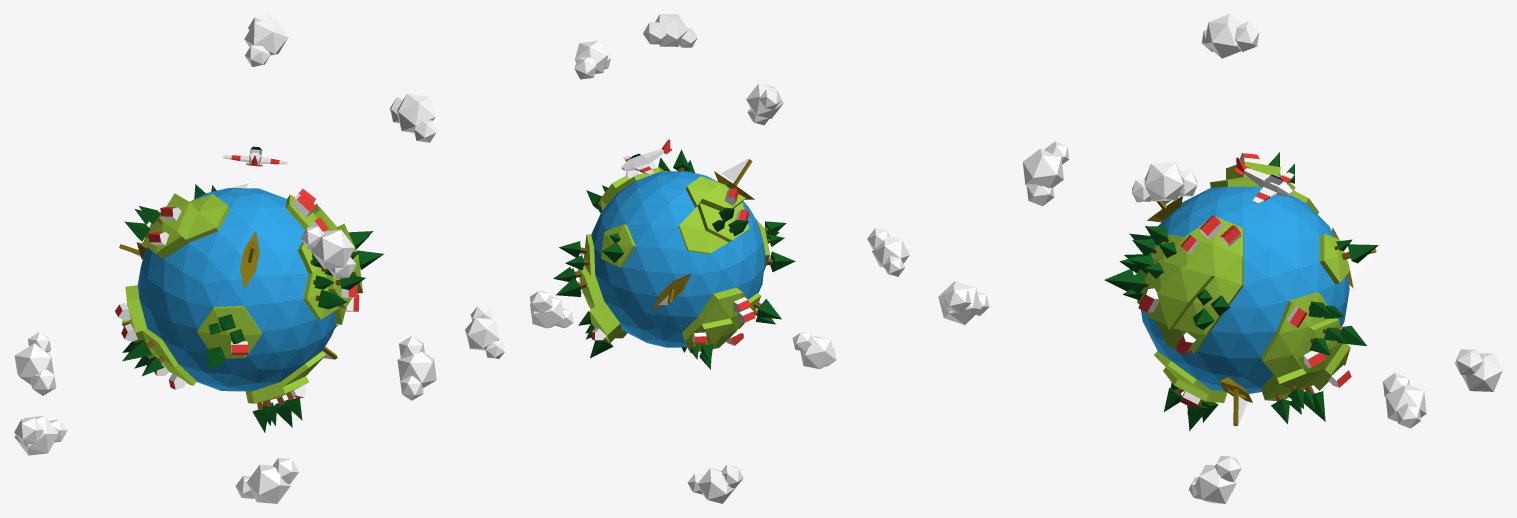
File: planet_eindversie.glb
3 renders of one model, left to right at view 1: azimuth 30°, elevation 25°; view 2: azimuth 150°, elevation 25°; view 3: azimuth 270°, elevation 25°, orthographic. The views are drawn at different scales.
Parts seen in each view (by area): view 1: earth, clouds, trees, houses, boat, airplane; view 2: earth, clouds, trees, houses, airplane, boat, boat.002; view 3: earth, clouds, trees, houses, airplane, boat.001.
Boxes of the visible parts, x1=… form: earth: x1=121, y1=188, x2=362, y2=403; clouds: x1=14, y1=14, x2=436, y2=503; trees: x1=122, y1=184, x2=383, y2=432; houses: x1=115, y1=189, x2=359, y2=398; boat: x1=240, y1=231, x2=259, y2=288; airplane: x1=223, y1=146, x2=287, y2=166; earth: x1=578, y1=167, x2=770, y2=353; clouds: x1=465, y1=14, x2=909, y2=503; trees: x1=553, y1=149, x2=795, y2=369; houses: x1=575, y1=161, x2=755, y2=345; airplane: x1=621, y1=139, x2=671, y2=174; boat: x1=714, y1=158, x2=754, y2=199; boat.002: x1=653, y1=273, x2=691, y2=309; earth: x1=1137, y1=161, x2=1350, y2=402; clouds: x1=938, y1=14, x2=1502, y2=503; trees: x1=1104, y1=152, x2=1378, y2=430; houses: x1=1138, y1=153, x2=1351, y2=409; airplane: x1=1234, y1=157, x2=1294, y2=203; boat.001: x1=1219, y1=377, x2=1252, y2=426.
Size of the model in its own units: 4.3 by 4.95 by 5.32.
